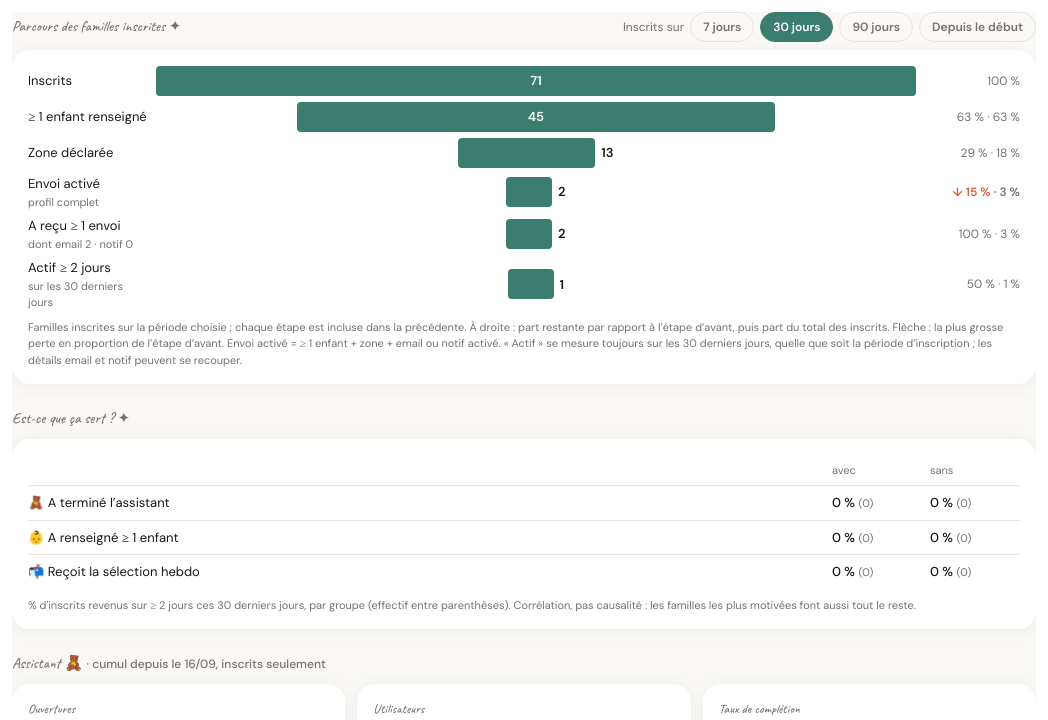
Test: EngagementTab — entonnoir › affiche le prénom donné à côté des enfants, seulement sur « Depuis le début »
This screenshot has width=1048, height=720.
Click the button "Depuis le début".
click(978, 27)  # box top-left (919, 12), bottom-right (1036, 42)
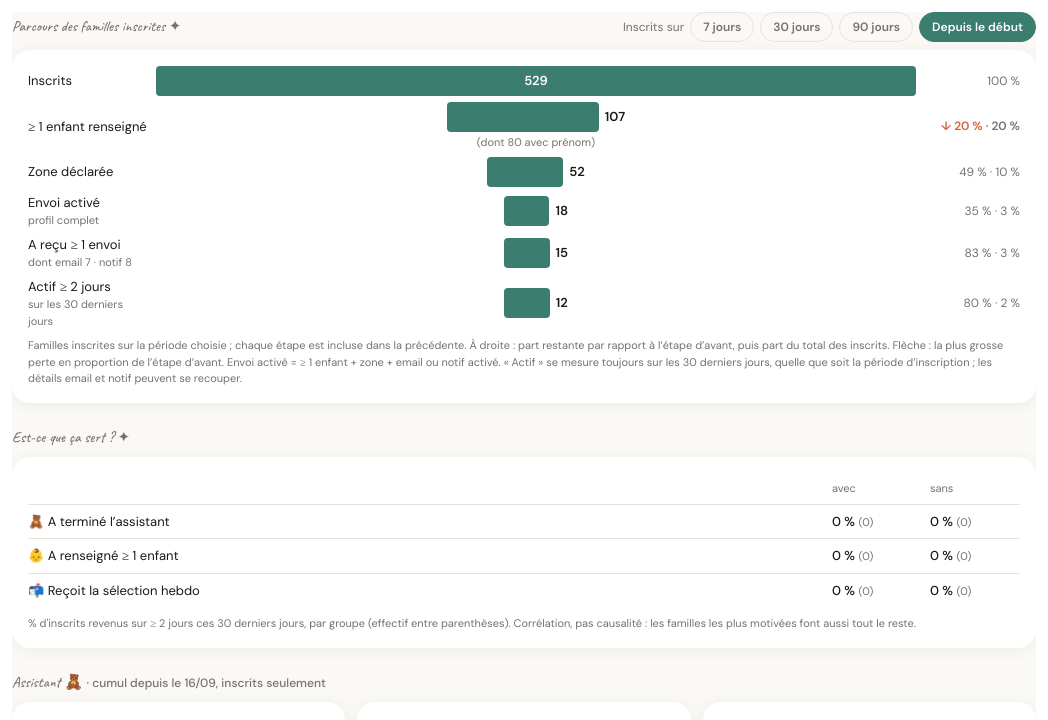
Check: the text "(dont 80 avec prénom)" is shown, box top-left (477, 135), bottom-right (595, 149)
Click the button "7 jours".
click(722, 27)  # box top-left (690, 12), bottom-right (754, 42)
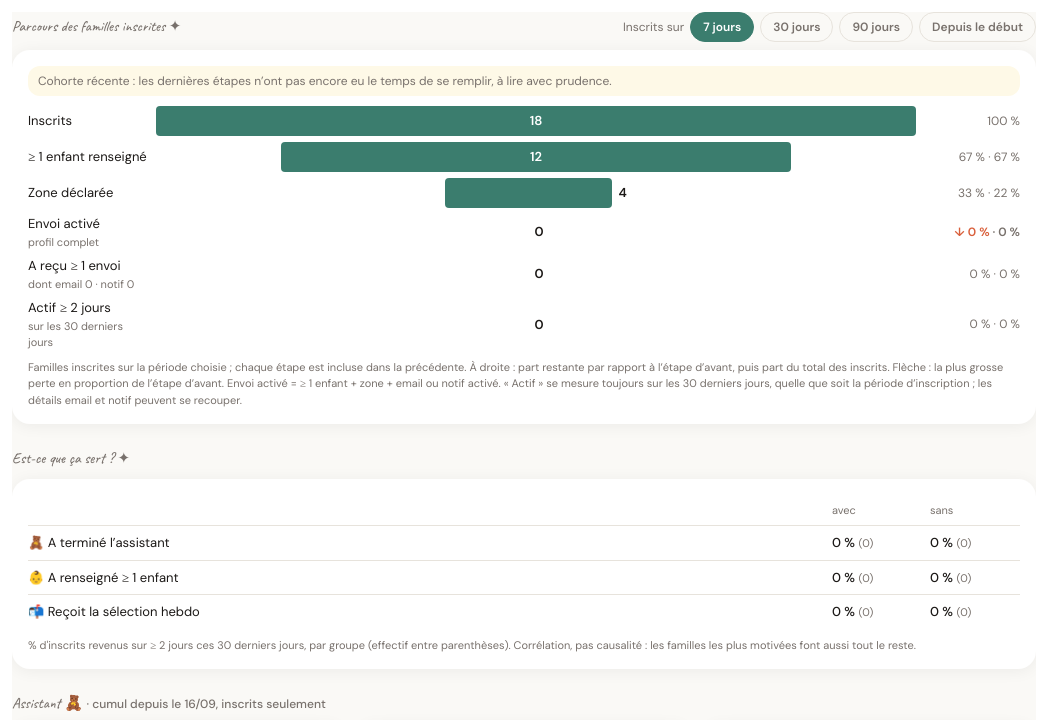
Check: the text "avec prénom" is gone
